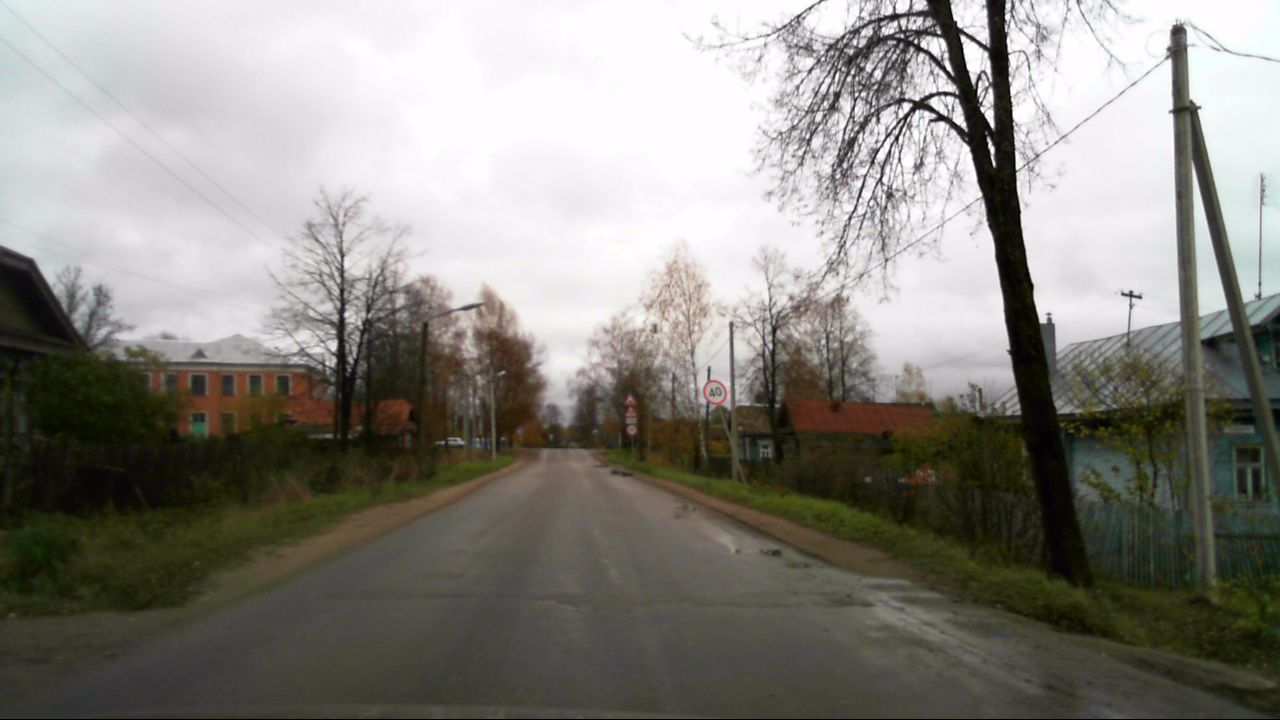speed_warning_40: (702, 379, 728, 406)
